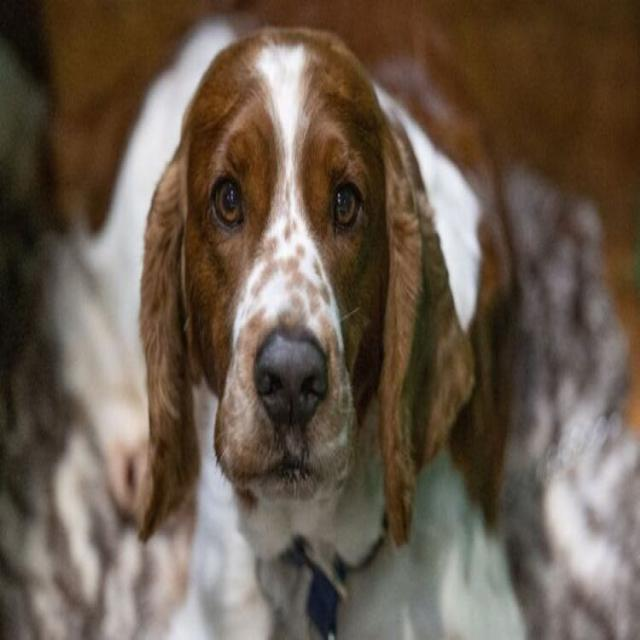eye: (209, 170, 248, 234), (329, 175, 364, 238)
